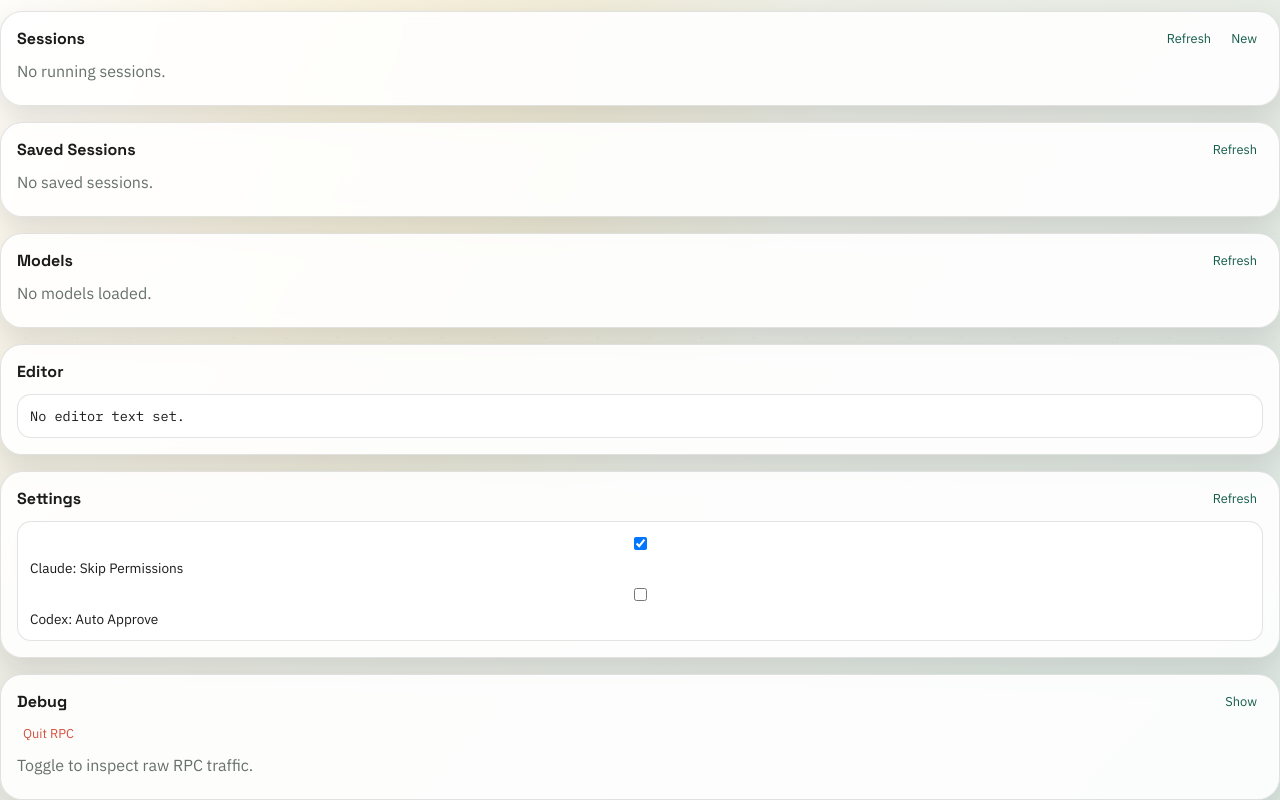
Sidebar › New Session Creation Form › renders CWD input field
The width and height of the screenshot is (1280, 800).
Click the button "New".
click(1244, 38)  # box top-left (1225, 29), bottom-right (1263, 48)
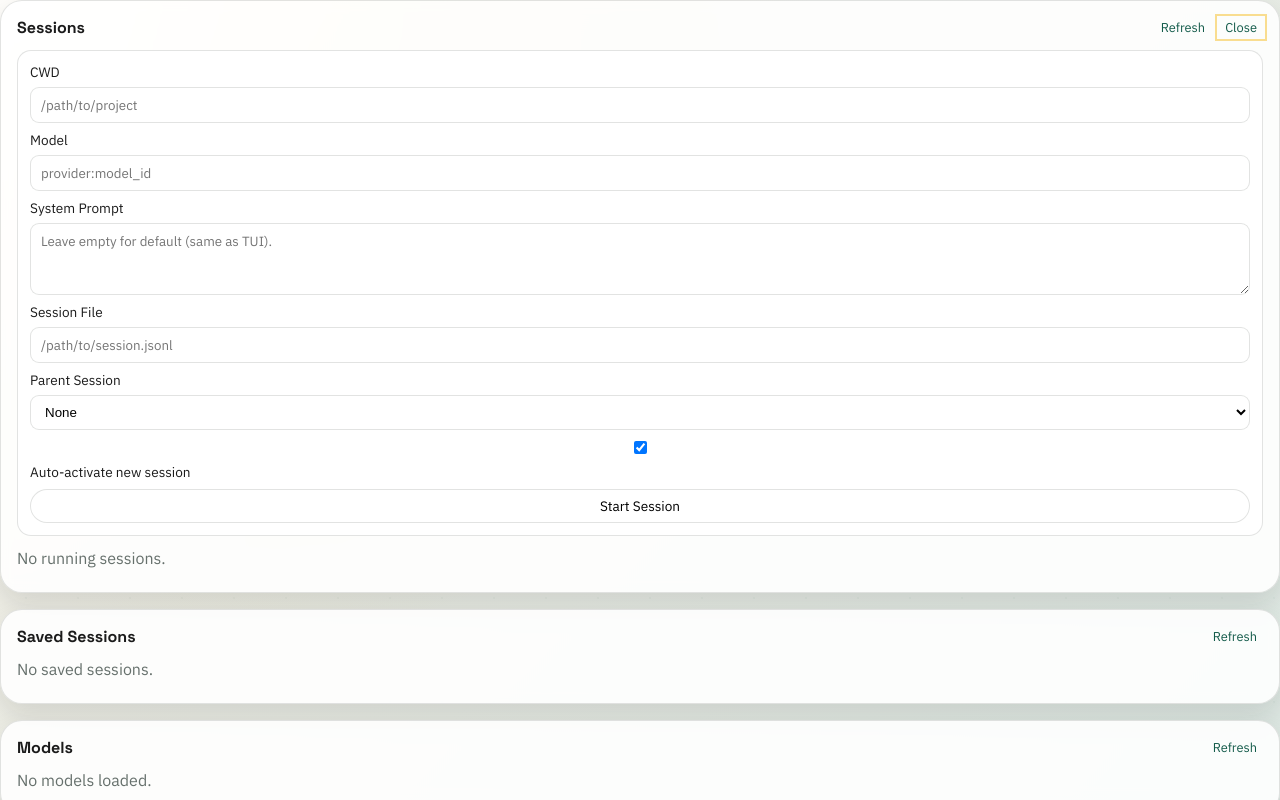
Expected: the field labelled "CWD" is shown, top-left (30, 87), bottom-right (1250, 123)
